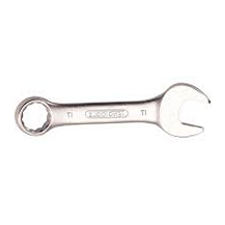Wrench: (11, 75, 225, 147)
